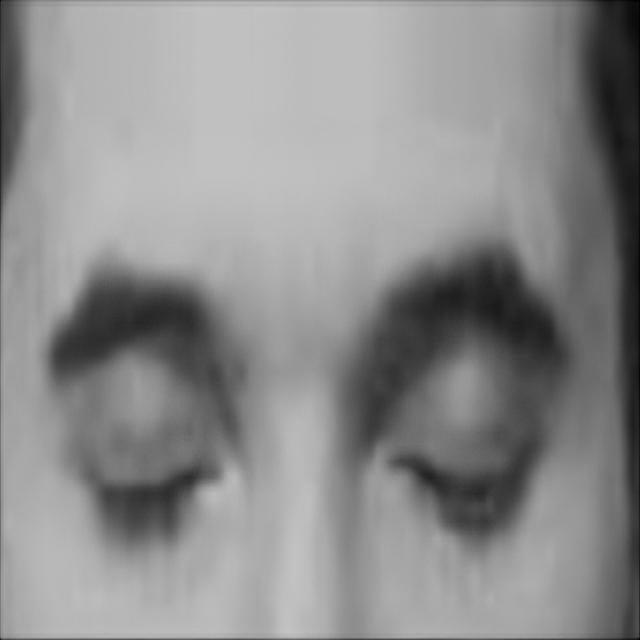real: (42, 270, 582, 574)
